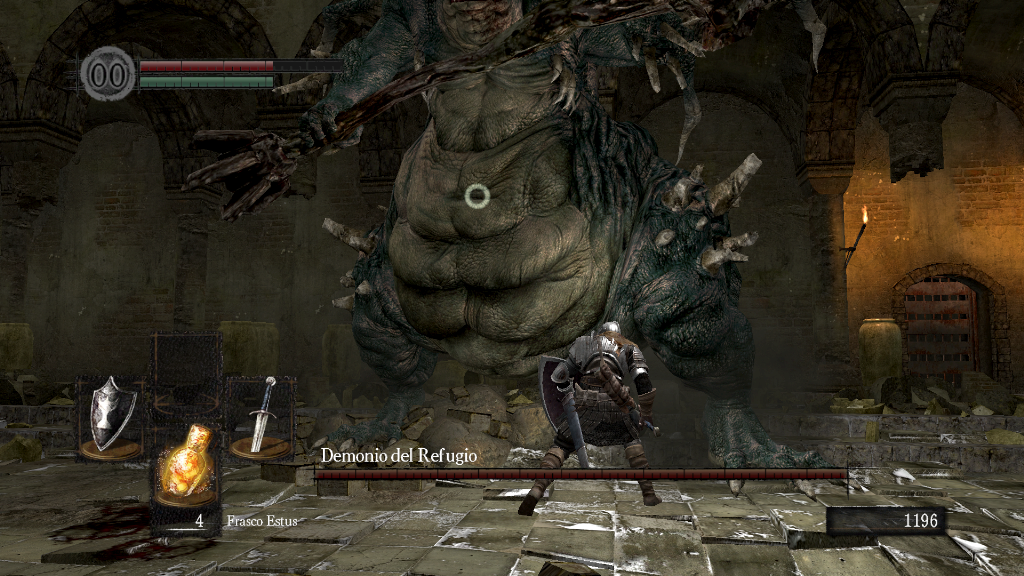asylumDemon: (188, 2, 863, 500)
bossHP: (314, 469, 847, 479)
health: (138, 58, 343, 71)
humanity: (80, 45, 136, 102)
player: (516, 320, 665, 516)
souls: (825, 506, 945, 536)
stamina: (138, 74, 274, 88)
